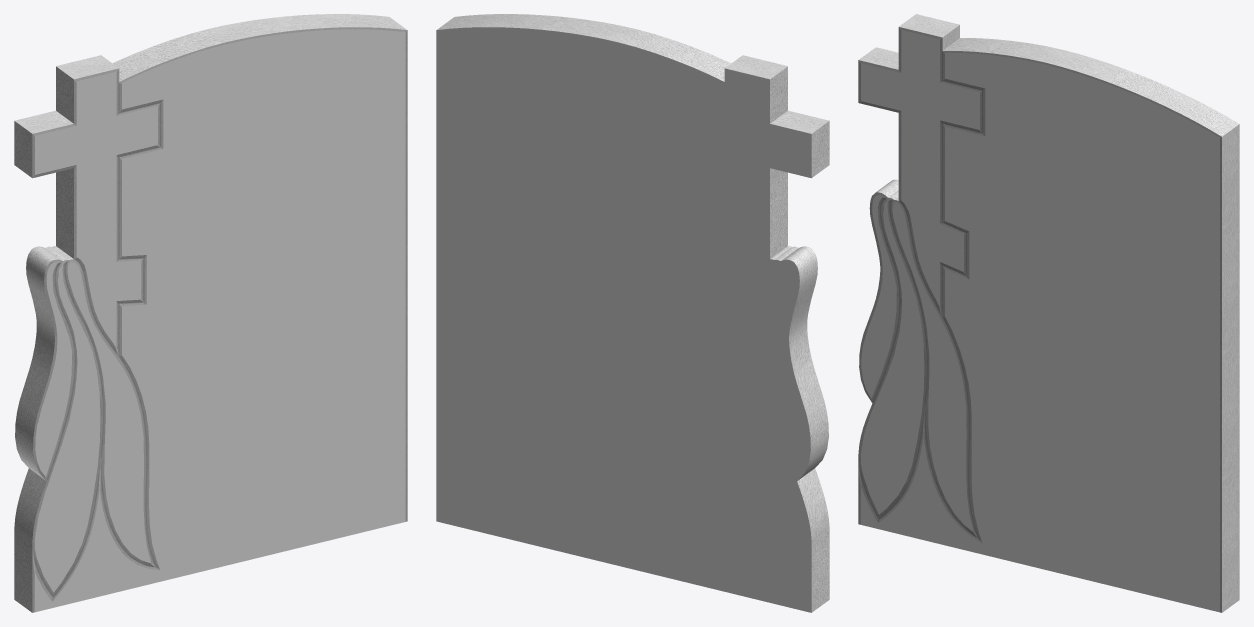
Rendered from cn0920f637da_tkf.glb.
The picture shows the model from 3 angles, left to right: view 1: azimuth 30°, elevation 25°; view 2: azimuth 150°, elevation 25°; view 3: azimuth 330°, elevation 25°; orthographic projection. The views are drawn at different scales.
Visible parts, largest first — view 1: Pam-d03-329, Pam-d03-329_2_notexture; view 2: Pam-d03-329, Pam-d03-329_2_notexture; view 3: Pam-d03-329, Pam-d03-329_2_notexture.
Part boxes in pixels (x1,y1,x2,y2): Pam-d03-329: [34, 29, 405, 612]; Pam-d03-329_2_notexture: [14, 14, 407, 612]; Pam-d03-329: [436, 27, 811, 612]; Pam-d03-329_2_notexture: [437, 14, 829, 612]; Pam-d03-329: [860, 30, 1219, 612]; Pam-d03-329_2_notexture: [858, 14, 1239, 612].
Size of the model in its own units: 0.6 by 0.8 by 0.05.
Materials: 1 (1 with a texture image).
